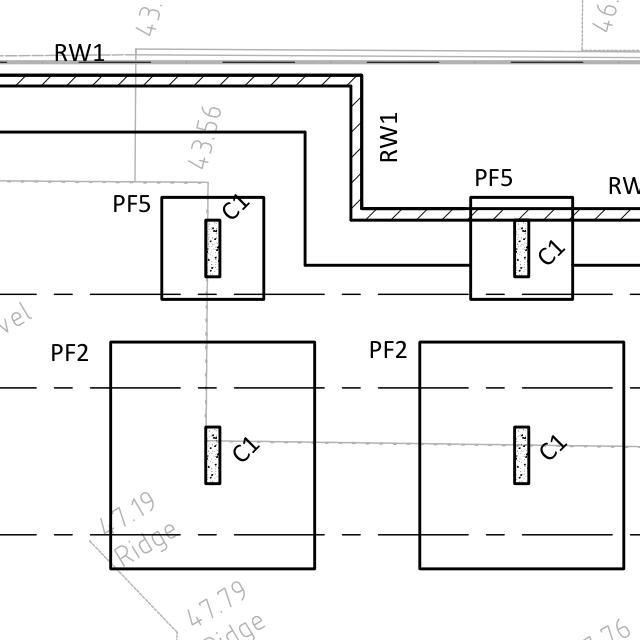C1: (531, 224, 572, 275), (222, 428, 264, 467), (537, 435, 568, 469), (217, 194, 251, 224)
PF2: (353, 327, 415, 367), (42, 332, 95, 361)
PF5: (470, 151, 524, 198), (100, 179, 164, 218)
RW1: (42, 22, 112, 69), (375, 101, 405, 166)
